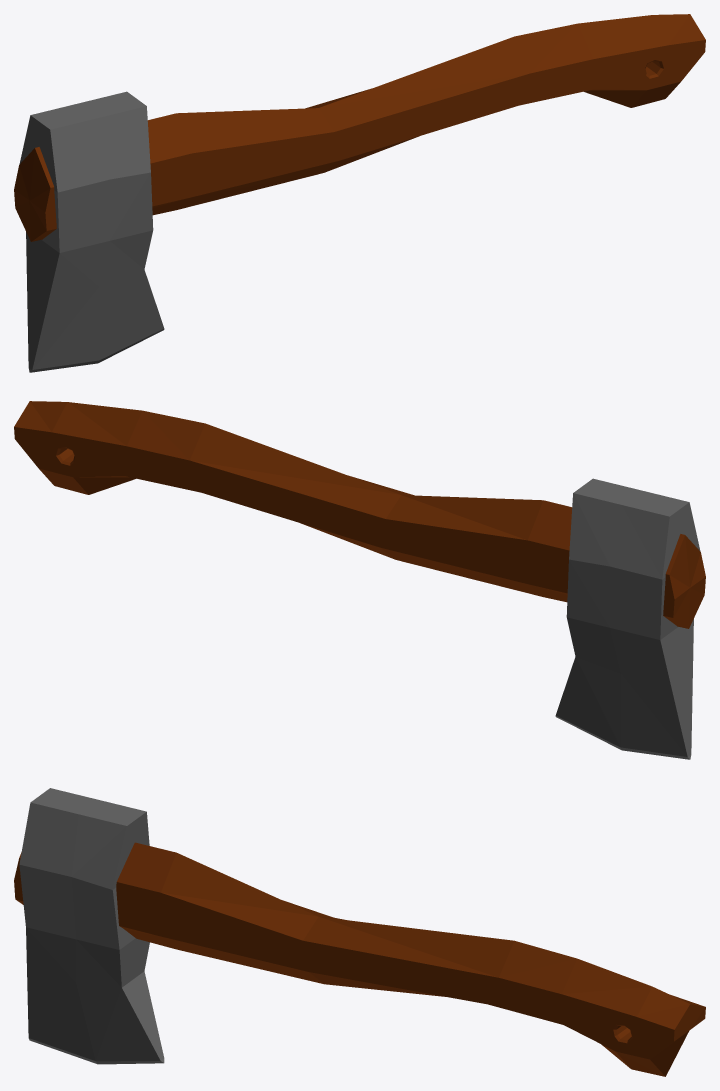
File: Hatchet.dae
3 views of the same model, one above another, from view 1: azimuth 30°, elevation 25°; view 2: azimuth 150°, elevation 25°; view 3: azimuth 330°, elevation 25° (orthographic).
Parts seen in each view (by area): view 1: Cube, Cube_001; view 2: Cube, Cube_001; view 3: Cube, Cube_001.
Part boxes in pixels (box(x1,y1,x2,y2)): Cube: box(14, 14, 705, 241); Cube_001: box(19, 91, 164, 372); Cube: box(14, 401, 705, 628); Cube_001: box(555, 478, 700, 759); Cube: box(14, 842, 705, 1076); Cube_001: box(19, 788, 164, 1064).
Size of the model in its own units: 9.04 by 3.34 by 0.906.
